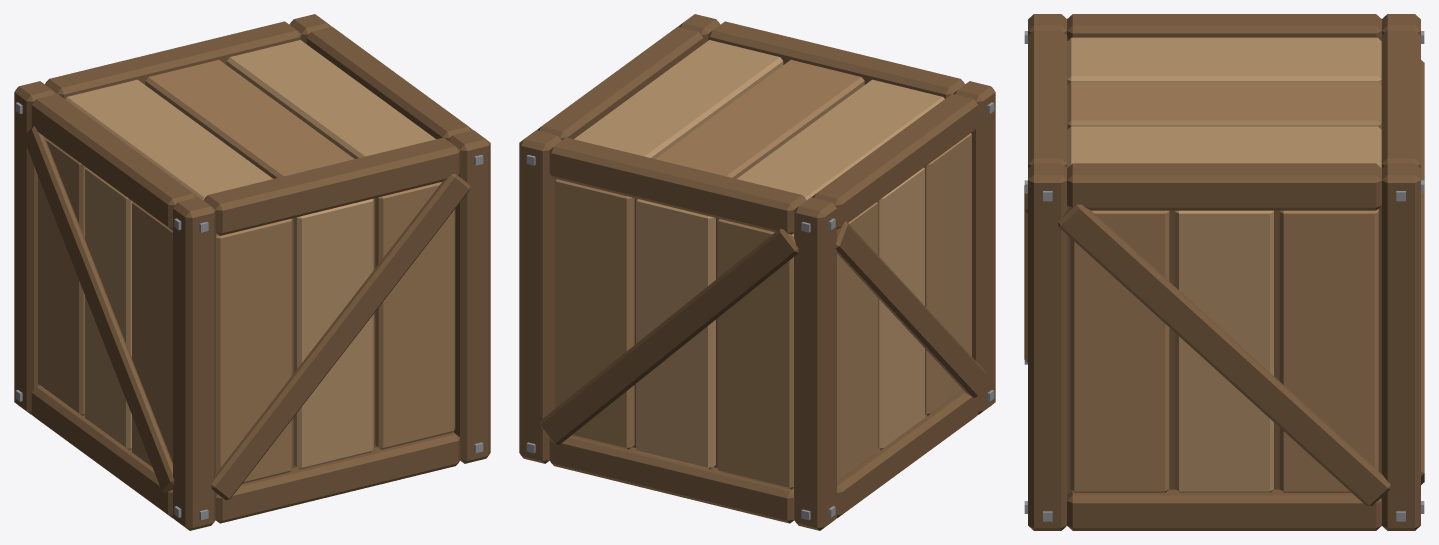
File: crate.glb
3 views of the same model, side by side, from view 1: azimuth 30°, elevation 25°; view 2: azimuth 150°, elevation 25°; view 3: azimuth 270°, elevation 25° (orthographic). The views are drawn at different scales.
Parts seen in each view (by area): view 1: Crate; view 2: Crate; view 3: Crate.
Part boxes in pixels (x1,y1,x2,y2): Crate: (14,14,490,530); Crate: (519,14,995,530); Crate: (1024,14,1424,530).
Bounding box in the file's own units: 0.815 × 0.8 × 0.815.
